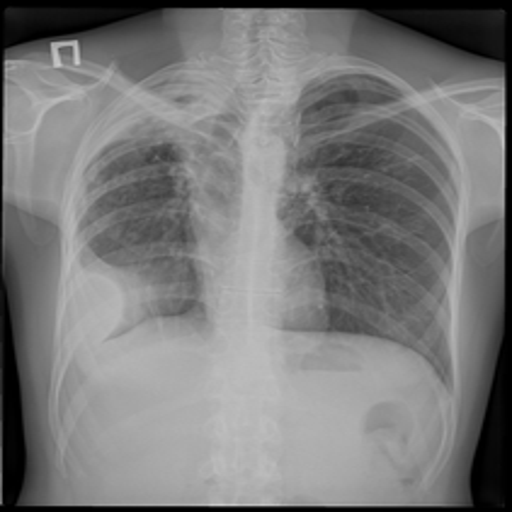TB: (91, 101, 211, 190), (58, 254, 131, 352)
